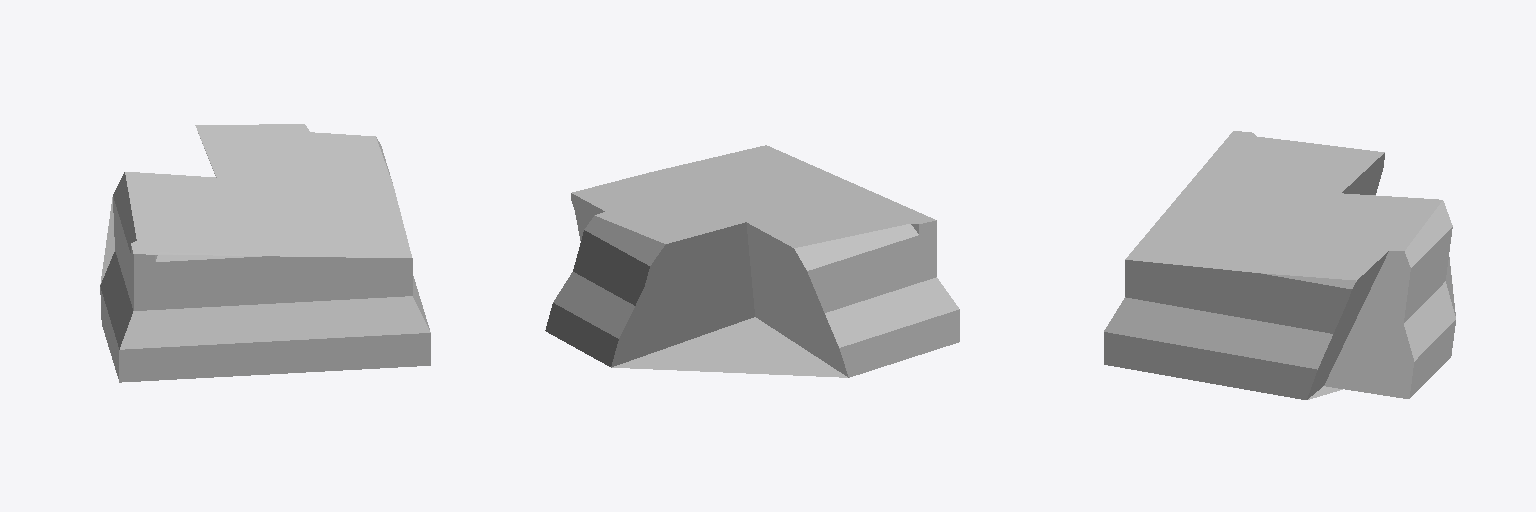
Rendered from Debris10.obj.
3 views of the same model, side by side, from view 1: azimuth 30°, elevation 25°; view 2: azimuth 150°, elevation 25°; view 3: azimuth 270°, elevation 25° (orthographic).
Parts seen in each view (by area): view 1: Debris10; view 2: Debris10; view 3: Debris10.
Boxes of the visible parts, box(x1,y1,x2,y2) form: Debris10: box(100, 124, 430, 382); Debris10: box(545, 145, 959, 377); Debris10: box(1104, 131, 1455, 399).
Bounding box in the file's own units: 5.47 × 2.11 × 5.09.